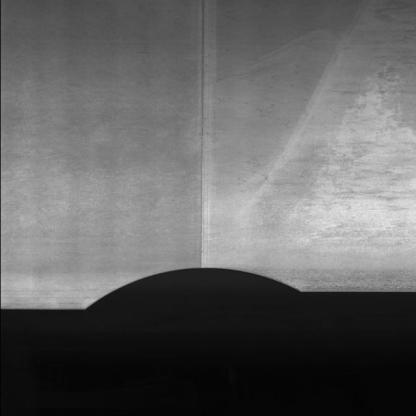crescent_gap: (75, 257, 326, 320)
